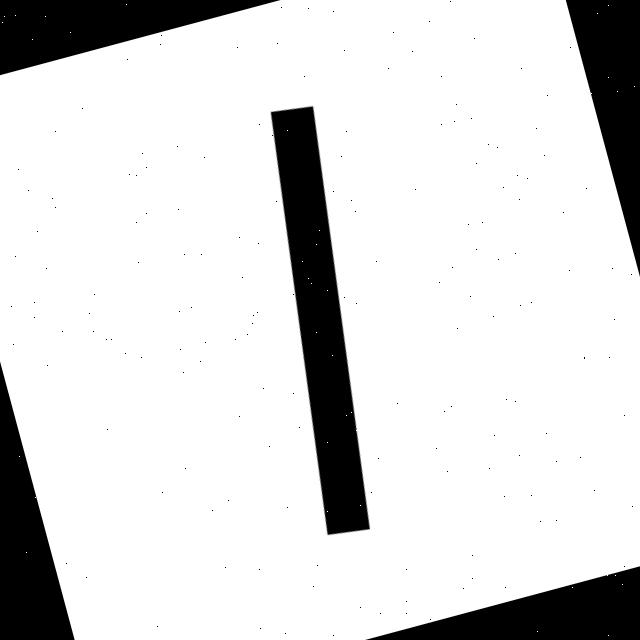line: (270, 106, 370, 534)
